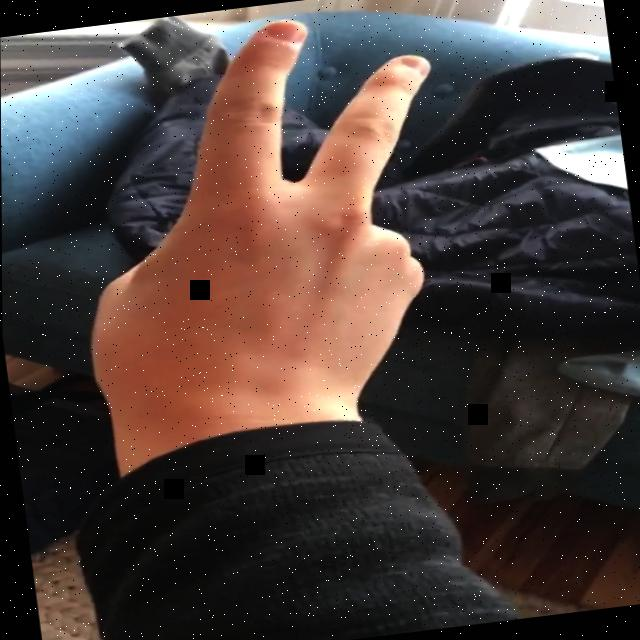Scissors: (40, 3, 478, 445)
